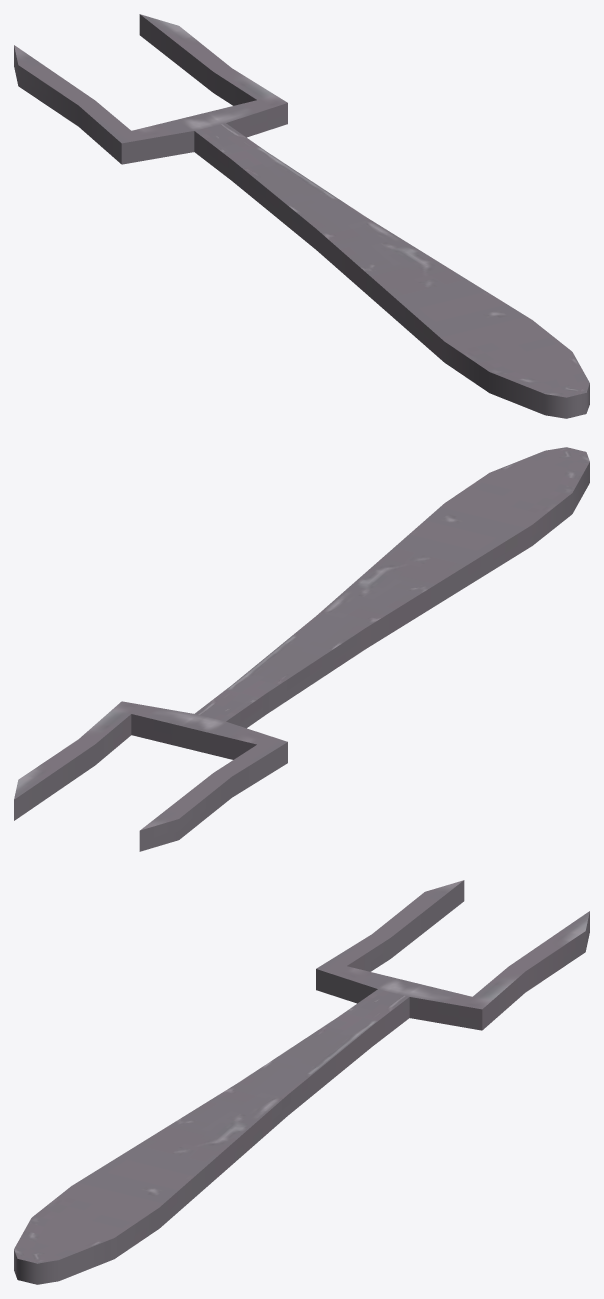
The model's file is Table_Fork.glb.
The picture shows the model from 3 angles, top to bottom: view 1: azimuth 30°, elevation 25°; view 2: azimuth 150°, elevation 25°; view 3: azimuth 330°, elevation 25°; orthographic projection.
Parts seen in each view (by area): view 1: Table_Fork; view 2: Table_Fork; view 3: Table_Fork.
Part boxes in pixels (x1=…): Table_Fork: x1=14, y1=14, x2=589, y2=418; Table_Fork: x1=14, y1=447, x2=589, y2=851; Table_Fork: x1=14, y1=880, x2=589, y2=1284.
Size of the model in its own units: 0.0504 by 0.00615 by 0.2626.
Materials: 1 (1 with a texture image).
